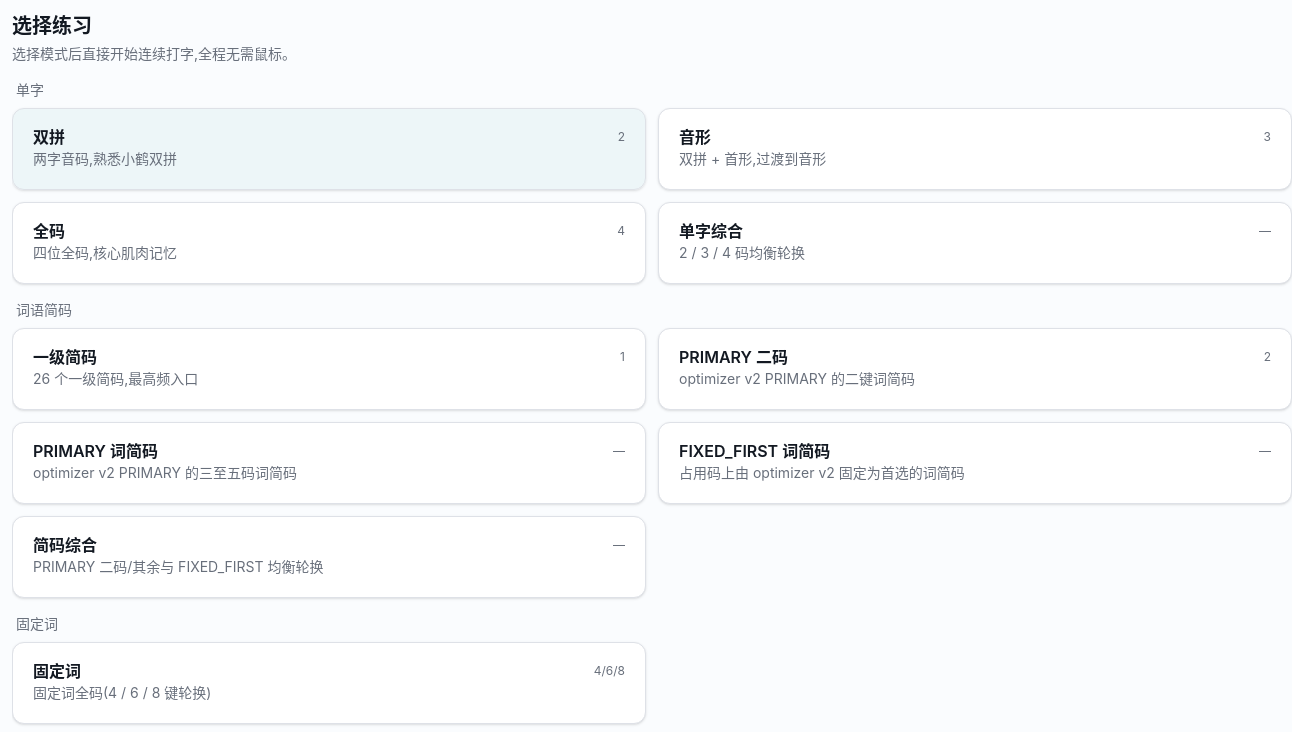
Test case: PracticeSetupView › 模式选择 → 参数设置两块独立屏幕,设置屏开始练习
Click the button "双拼 2 两字音码,熟悉小鹤双拼" at (49, 137), box [12,108,646,190]
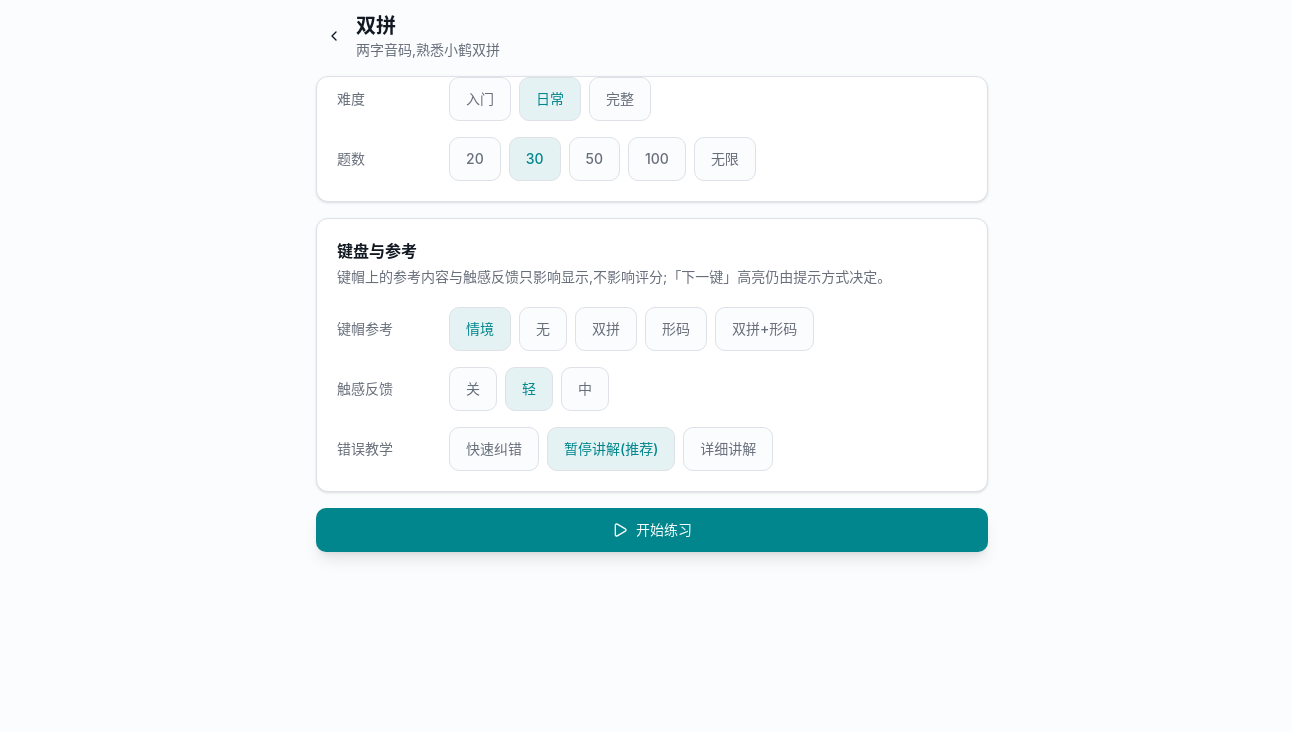
Check: the heading "键盘与参考" is shown, box [337,241,417,261]
Check: the text "键帽参考" is shown, box [337,320,393,337]
Check: the text "触感反馈" is shown, box [337,380,393,397]
Click the button "开始练习" at (652, 530), box [316,508,988,552]
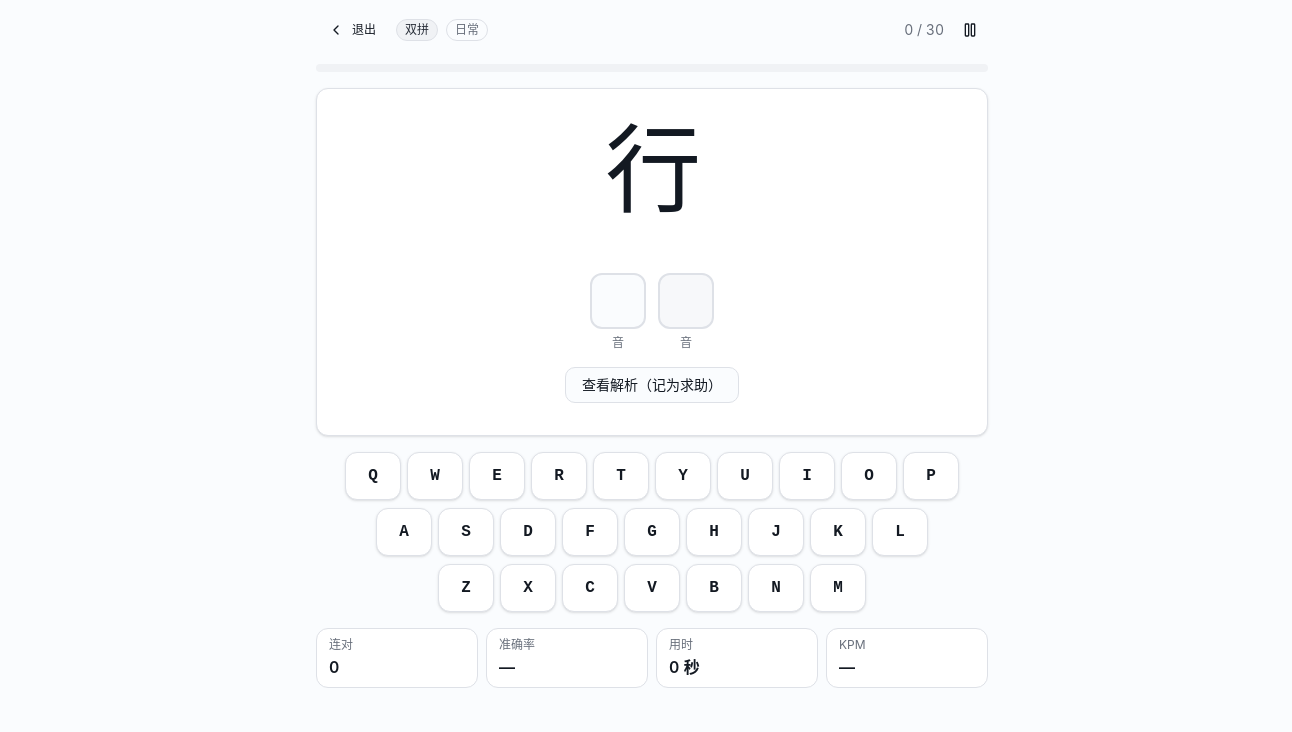
Check: the element named "编码输入区" is shown, box [316,88,988,436]
Check: the text "行" is shown, box [605,121,699,217]
